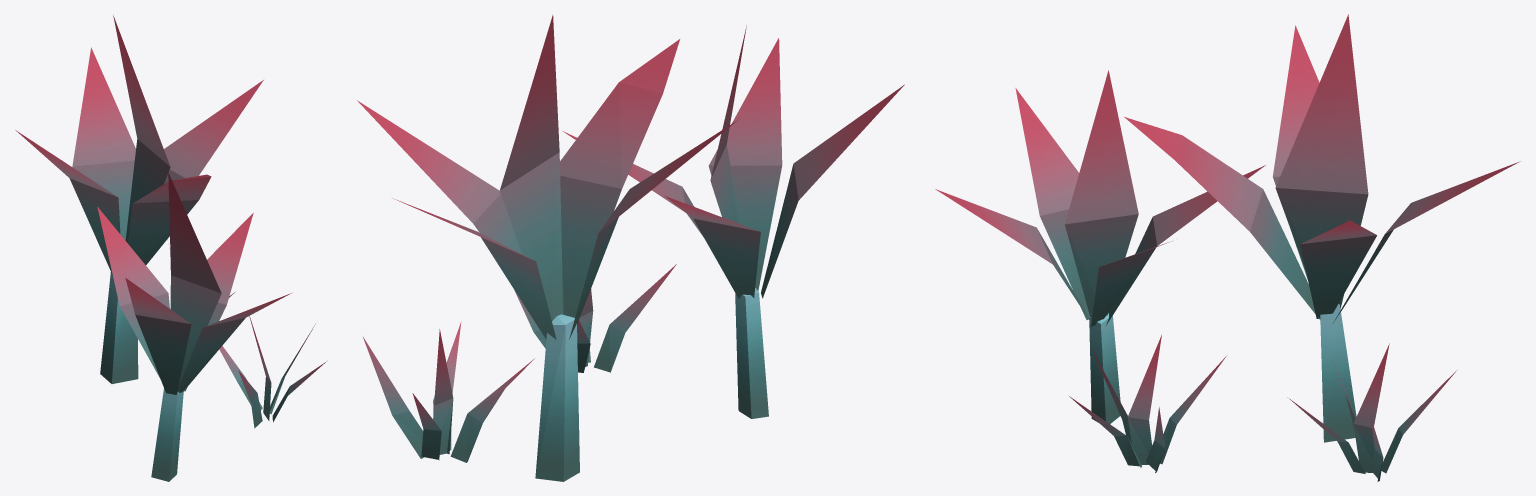
Rendered from plant_S01.FBX.
3 renders of one model, left to right at view 1: azimuth 30°, elevation 25°; view 2: azimuth 150°, elevation 25°; view 3: azimuth 270°, elevation 25°, orthographic. The views are drawn at different scales.
Parts seen in each view (by area): view 1: plant_S01; view 2: plant_S01; view 3: plant_S01.
Part boxes in pixels (x1=…): plant_S01: x1=15, y1=15, x2=326, y2=481; plant_S01: x1=357, y1=15, x2=904, y2=481; plant_S01: x1=935, y1=14, x2=1520, y2=481.
Size of the model in its own units: 61.61 by 77.96 by 95.2.
1 material, 1 textured.
